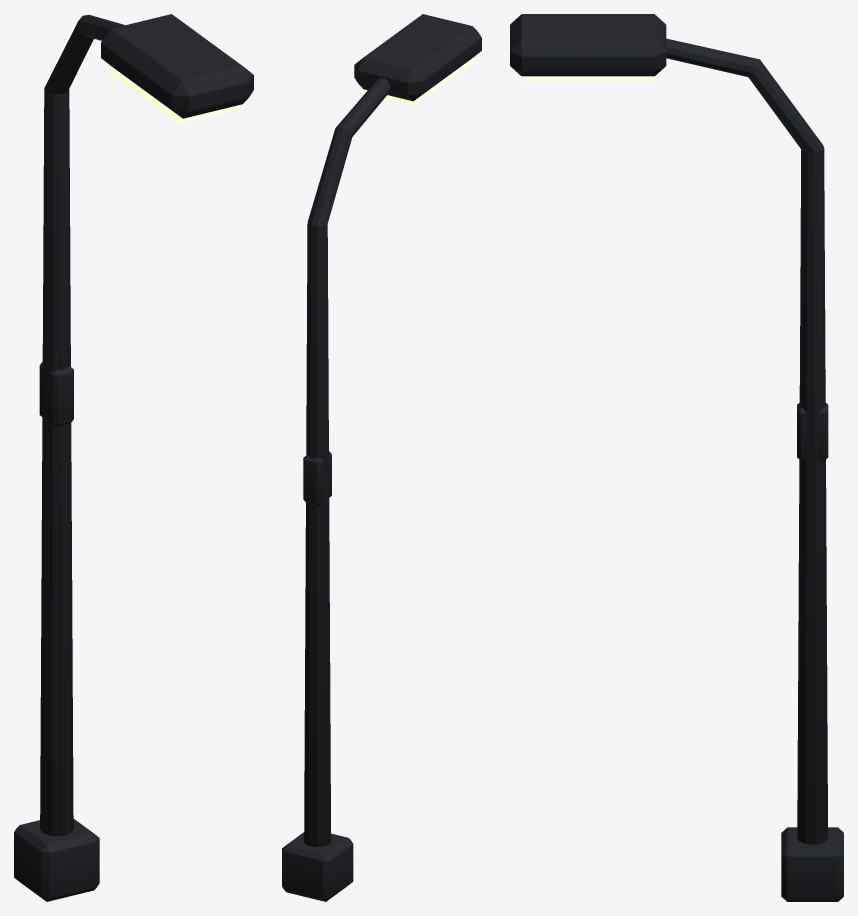
Rendered from street_lamp_01.fbx.
The picture shows the model from 3 angles, left to right: view 1: azimuth 30°, elevation 25°; view 2: azimuth 150°, elevation 25°; view 3: azimuth 270°, elevation 25°; orthographic projection. The views are drawn at different scales.
Visible parts, largest first — view 1: street_lamp_01_LOD0; view 2: street_lamp_01_LOD0; view 3: street_lamp_01_LOD0.
Part boxes in pixels (bbox=[...]): street_lamp_01_LOD0: bbox=[14, 14, 253, 901]; street_lamp_01_LOD0: bbox=[282, 14, 481, 901]; street_lamp_01_LOD0: bbox=[510, 14, 843, 901].
Size of what is drawn, in the model's own units: 0.45 by 4.88 by 1.71.
1 material, 1 textured.
